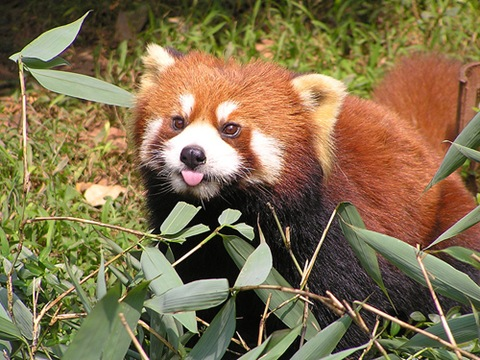red_panda: (125, 36, 480, 327)
